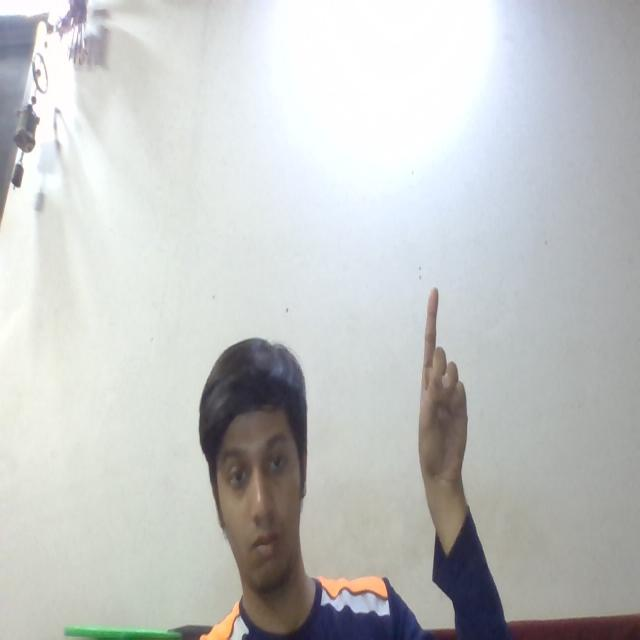Z: (397, 276, 481, 478)
